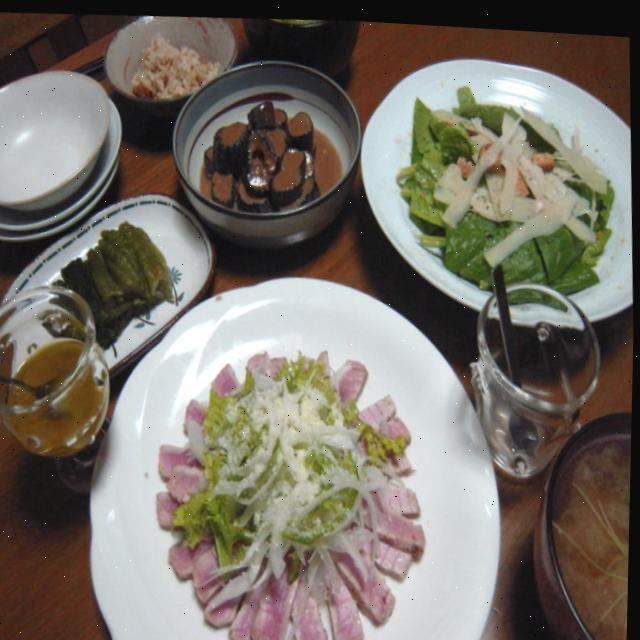鸡蛋料理: (153, 45, 366, 241)
